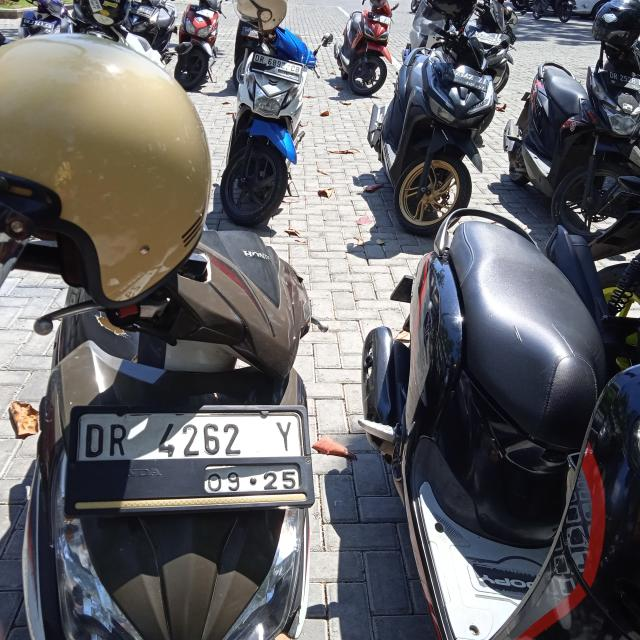plate: (73, 408, 312, 508), (250, 51, 304, 85)
